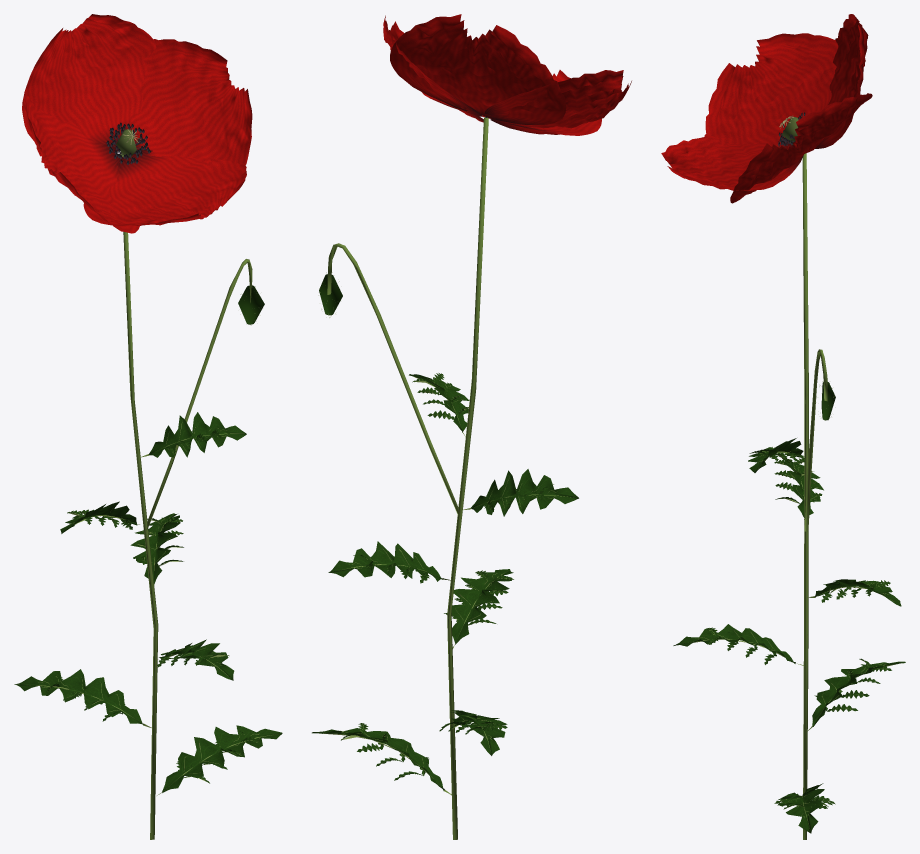
The model's file is field-poppy.glb.
3 views of the same model, side by side, from view 1: azimuth 30°, elevation 25°; view 2: azimuth 150°, elevation 25°; view 3: azimuth 270°, elevation 25° (orthographic). The views are drawn at different scales.
Parts seen in each view (by area): view 1: four_crinkled_papery_petals, leaves, stems, nodding_bud, dark_anthers, leaf_midribs, leaf_secondary_veins; view 2: four_crinkled_papery_petals, leaves, stems, leaf_secondary_veins, nodding_bud; view 3: four_crinkled_papery_petals, leaves, stems.
Part boxes in pixels (x1,y1,x2,y2): four_crinkled_papery_petals: (22, 14, 252, 233); leaves: (14, 412, 282, 792); stems: (120, 152, 252, 839); nodding_bud: (238, 285, 264, 324); dark_anthers: (106, 122, 150, 164); leaf_midribs: (17, 433, 279, 790); leaf_secondary_veins: (38, 420, 262, 779); four_crinkled_papery_petals: (383, 14, 631, 135); leaves: (312, 373, 578, 790); stems: (327, 117, 488, 839); leaf_secondary_veins: (341, 375, 555, 776); nodding_bud: (319, 274, 342, 315); four_crinkled_papery_petals: (661, 14, 872, 203); leaves: (673, 438, 905, 833); stems: (797, 153, 827, 839).
Bounding box in the file's own units: 0.173 × 0.4982 × 0.1383.
8 materials, 2 textured.
